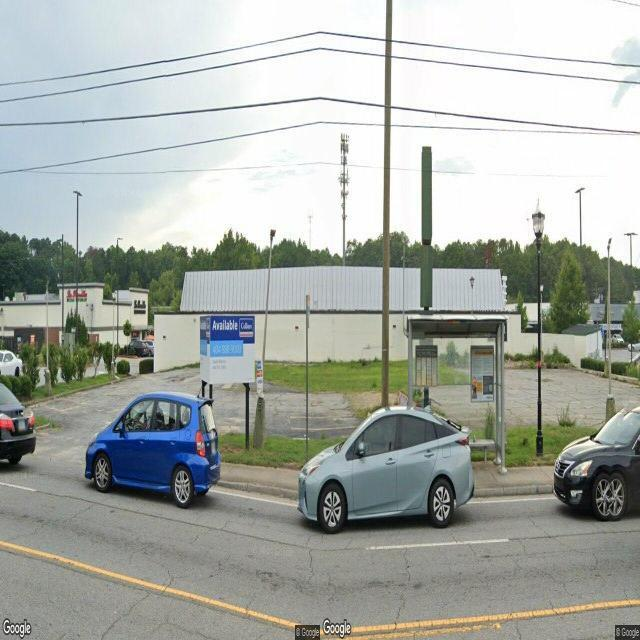seating: (469, 440, 495, 468)
shelter: (403, 309, 509, 476)
